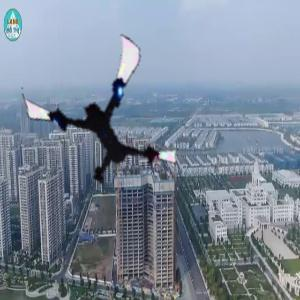drone: (24, 46, 171, 193)
